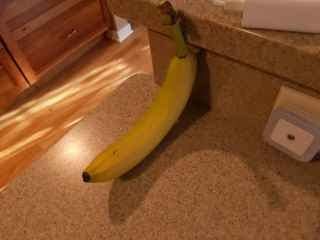banana: (79, 2, 201, 186)
